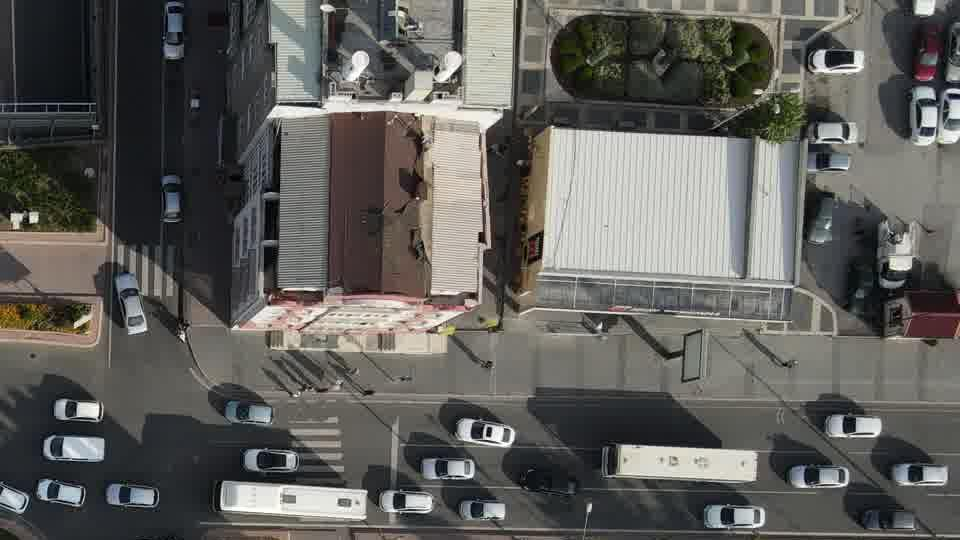bus: (599, 441, 758, 486), (210, 477, 368, 522)
cars: (114, 272, 148, 335), (905, 83, 938, 146), (454, 417, 516, 448), (521, 466, 579, 498), (702, 502, 766, 529), (911, 24, 941, 81), (848, 257, 877, 315), (161, 0, 188, 61), (805, 194, 837, 245), (34, 476, 86, 507), (807, 48, 866, 75), (105, 482, 160, 510), (788, 465, 849, 490), (862, 507, 920, 533), (825, 413, 882, 439), (892, 461, 949, 487), (241, 447, 300, 472), (224, 398, 274, 427), (378, 489, 436, 514), (420, 456, 475, 481), (805, 120, 859, 145), (53, 399, 105, 423), (938, 89, 960, 145), (158, 173, 182, 223), (0, 477, 30, 514), (807, 150, 852, 174), (458, 499, 507, 521), (945, 21, 960, 83), (908, 0, 936, 17), (158, 534, 186, 540), (122, 539, 158, 540)
truck: (877, 217, 915, 290)
van: (41, 435, 107, 463)
